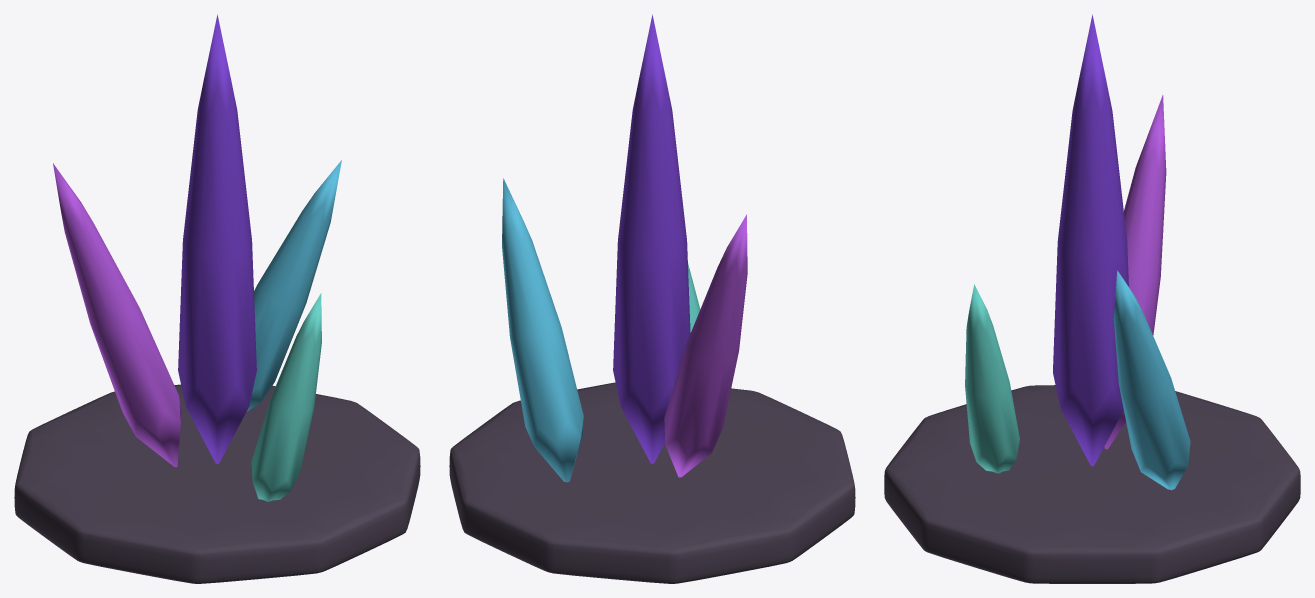
File: Kristall.fbx
3 renders of one model, left to right at view 1: azimuth 30°, elevation 25°; view 2: azimuth 150°, elevation 25°; view 3: azimuth 270°, elevation 25°, orthographic.
Parts seen in each view (by area): view 1: Kristall; view 2: Kristall; view 3: Kristall.
Boxes of the visible parts, <box> form: Kristall: <box>14,14,420,583</box>; Kristall: <box>449,14,855,583</box>; Kristall: <box>884,14,1300,583</box>.
Size of the model in its own units: 0.7602 by 1.03 by 0.7926.
